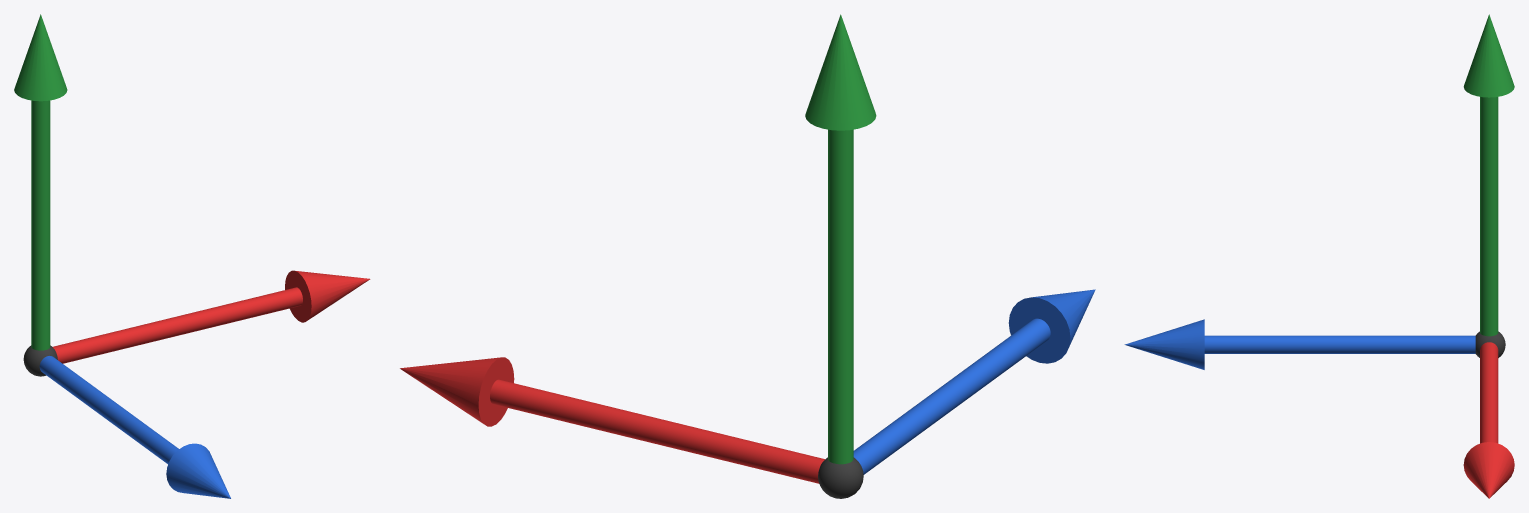
Rendered from axis_triad.obj.
3 renders of one model, left to right at view 1: azimuth 30°, elevation 25°; view 2: azimuth 150°, elevation 25°; view 3: azimuth 270°, elevation 25°, orthographic. The views are drawn at different scales.
Visible parts, largest first — view 1: axis_triad; view 2: axis_triad; view 3: axis_triad.
Boxes of the visible parts, <box> form: axis_triad: <box>14,14,370,498</box>; axis_triad: <box>400,14,1095,498</box>; axis_triad: <box>1124,14,1514,498</box>.
Bounding box in the file's own units: 1.07 × 1.07 × 1.07.
